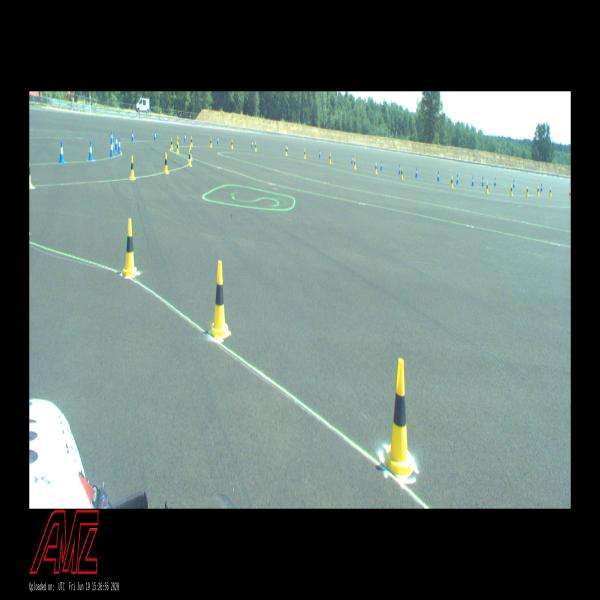blue_cone: (58, 142, 64, 163), (88, 141, 93, 160), (109, 141, 114, 156), (118, 137, 121, 154), (115, 135, 118, 150), (154, 130, 157, 142), (415, 167, 418, 179), (110, 132, 113, 143), (437, 171, 440, 182), (380, 160, 383, 171), (471, 176, 474, 187), (398, 164, 401, 175), (481, 177, 484, 187), (184, 133, 187, 143), (251, 139, 254, 149), (318, 149, 321, 158), (132, 129, 134, 142), (456, 174, 458, 185), (351, 154, 353, 164), (217, 135, 219, 145), (513, 179, 515, 188), (494, 178, 496, 186), (541, 183, 542, 192)
yellow_cone: (382, 358, 414, 481), (209, 260, 231, 341), (122, 217, 138, 279), (129, 155, 135, 180), (164, 152, 168, 174), (188, 147, 192, 166), (30, 155, 32, 190), (169, 137, 174, 150), (450, 176, 454, 189), (485, 181, 489, 194), (526, 185, 530, 197), (176, 135, 179, 149), (549, 186, 552, 198), (176, 141, 179, 153), (401, 168, 404, 180), (510, 185, 513, 196), (231, 139, 234, 150), (285, 145, 288, 156), (537, 186, 540, 196), (190, 145, 192, 160), (254, 142, 257, 151), (375, 162, 377, 175), (191, 136, 193, 148), (210, 136, 212, 148), (304, 148, 306, 160), (354, 158, 356, 169), (568, 189, 570, 200), (329, 154, 331, 164)
